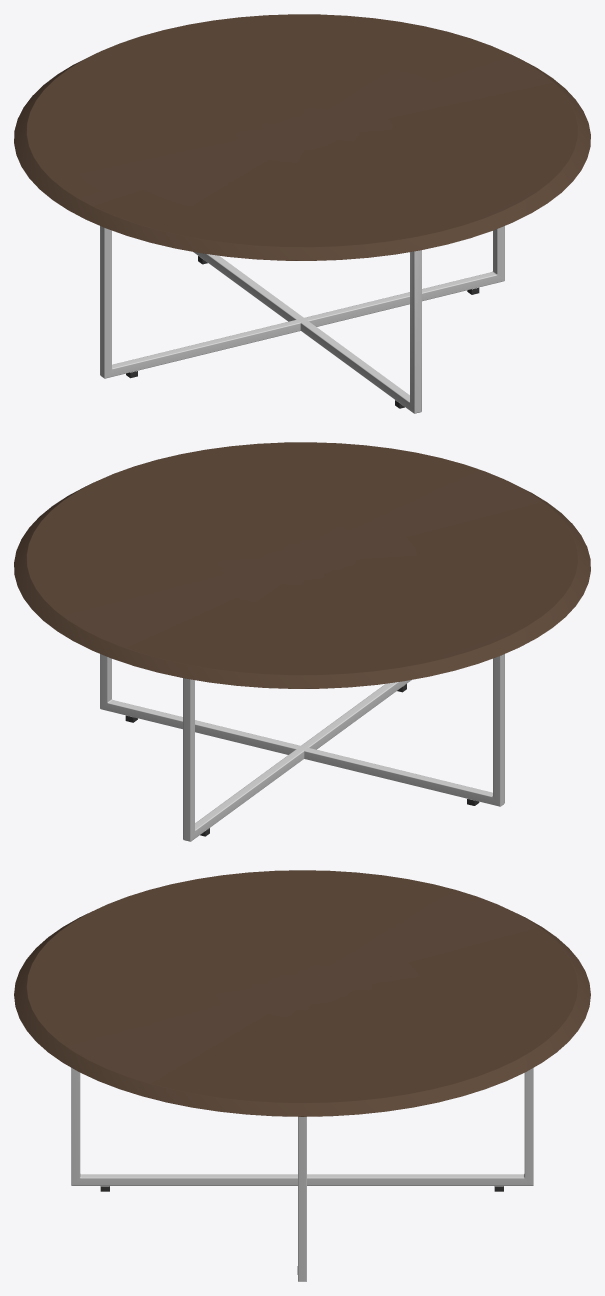
The model's file is coffee_table.gltf.
The picture shows the model from 3 angles, top to bottom: view 1: azimuth 30°, elevation 25°; view 2: azimuth 150°, elevation 25°; view 3: azimuth 270°, elevation 25°; orthographic projection.
Visible parts, largest first — view 1: SM_Coffee_Table; view 2: SM_Coffee_Table; view 3: SM_Coffee_Table.
Part boxes in pixels (box(x1,y1,x2,y2)): SM_Coffee_Table: box(14, 14, 590, 413); SM_Coffee_Table: box(14, 442, 590, 841); SM_Coffee_Table: box(14, 870, 590, 1281).
Size of the model in its own units: 0.939 by 0.365 by 0.939.
1 material, 1 textured.
